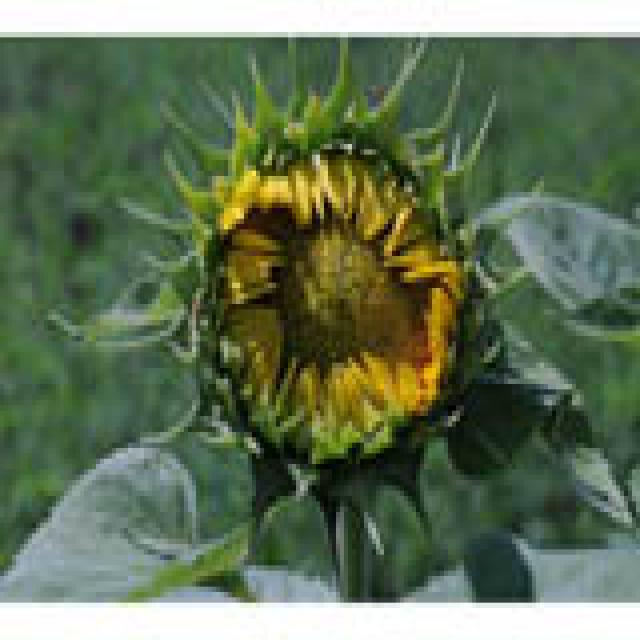sunflower: (43, 36, 541, 530)
